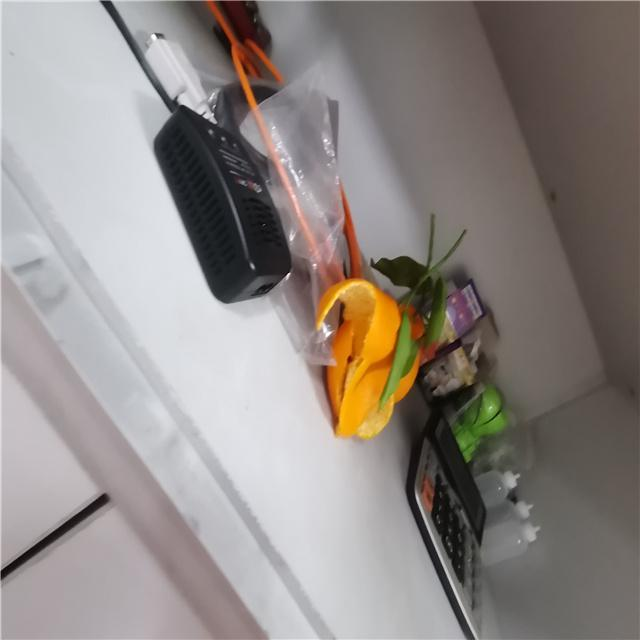orange-peel: (315, 212, 482, 444)
